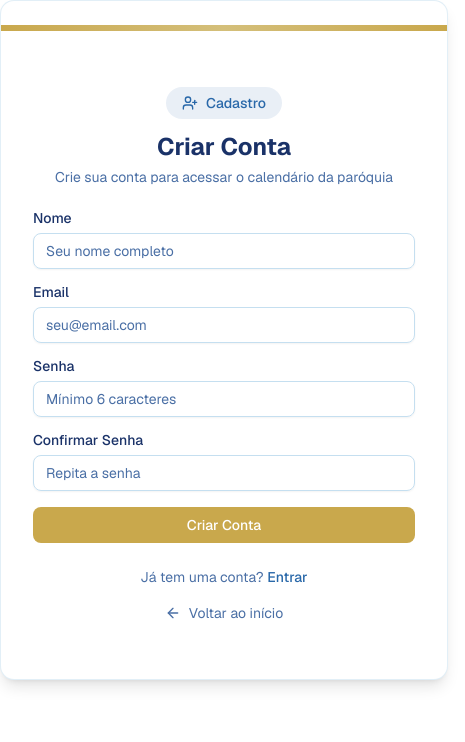
it: RegisterForm › shows server error message
The width and height of the screenshot is (465, 742).
In the field labelled "Nome": (224, 251) x1=33 y1=233 x2=415 y2=269, type "Test"
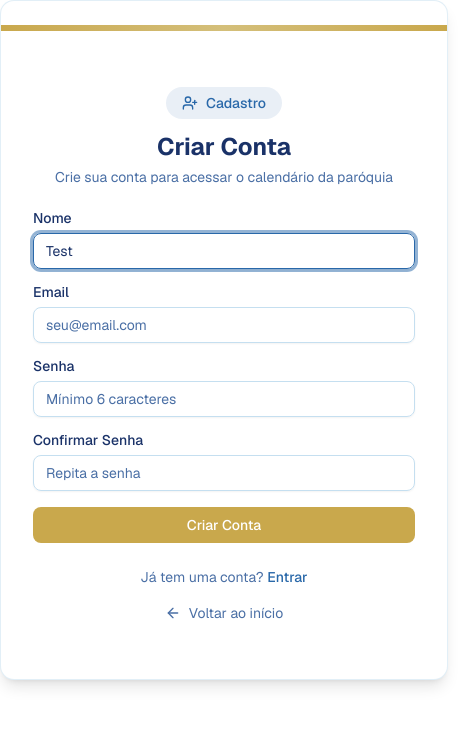
In the field labelled "Email": (224, 325) x1=33 y1=307 x2=415 y2=343, type "dup@test.com"
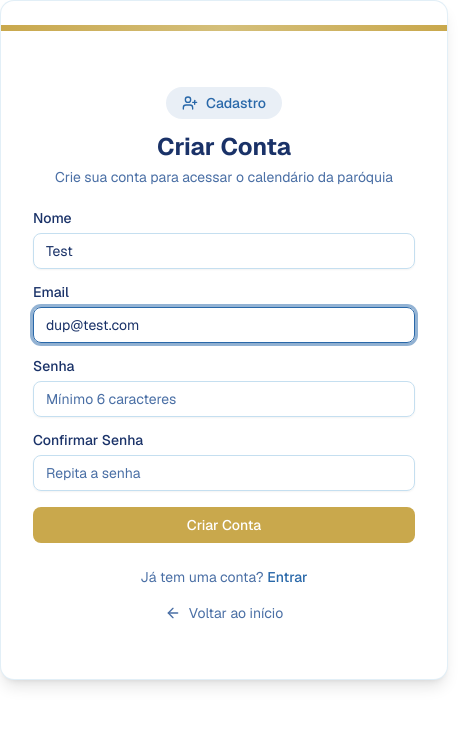
In the password field labelled "Senha": (224, 399) x1=33 y1=381 x2=415 y2=417, type "password123"
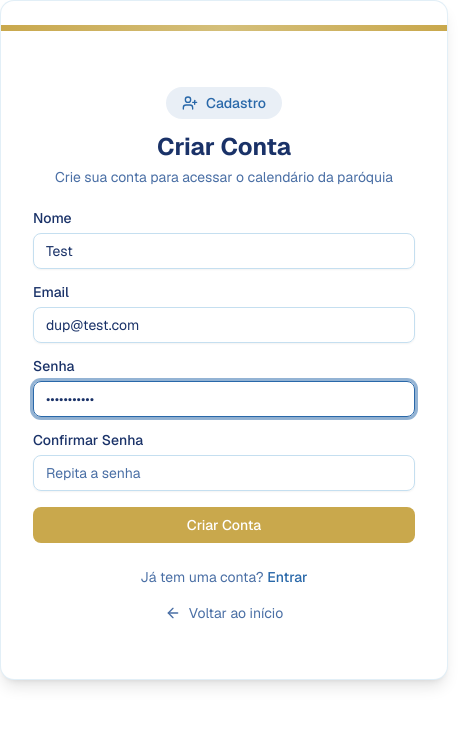
In the password field labelled "Confirmar Senha": (224, 473) x1=33 y1=455 x2=415 y2=491, type "password123"
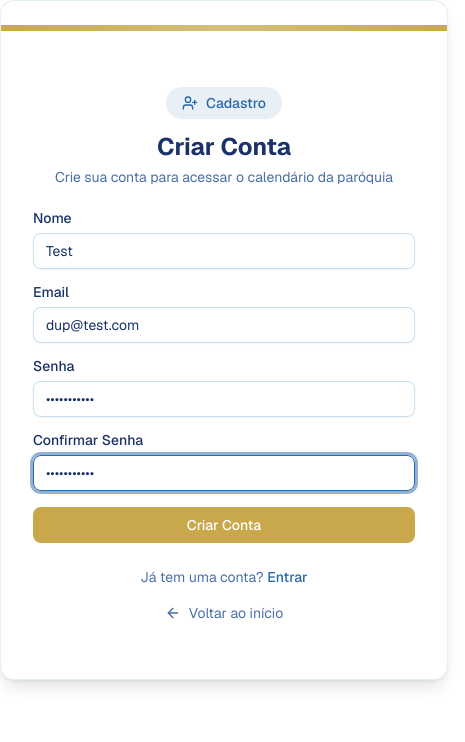
Click the button "Criar Conta": (224, 525) x1=33 y1=507 x2=415 y2=543
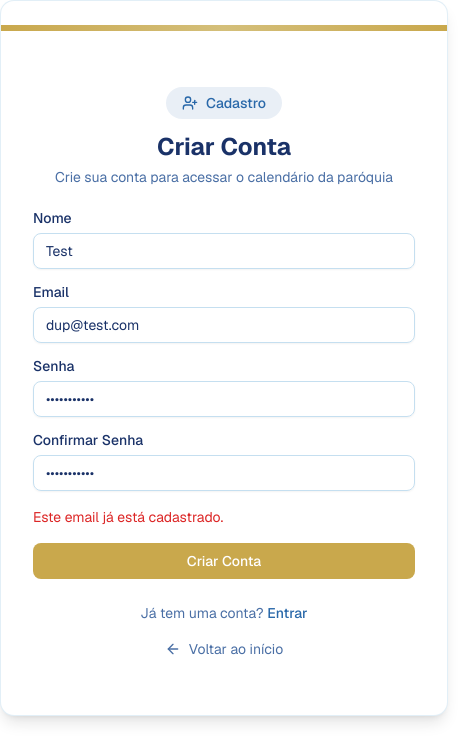
Expected: the text "Este email já está cadastrado." is shown, x1=33 y1=508 x2=223 y2=526
